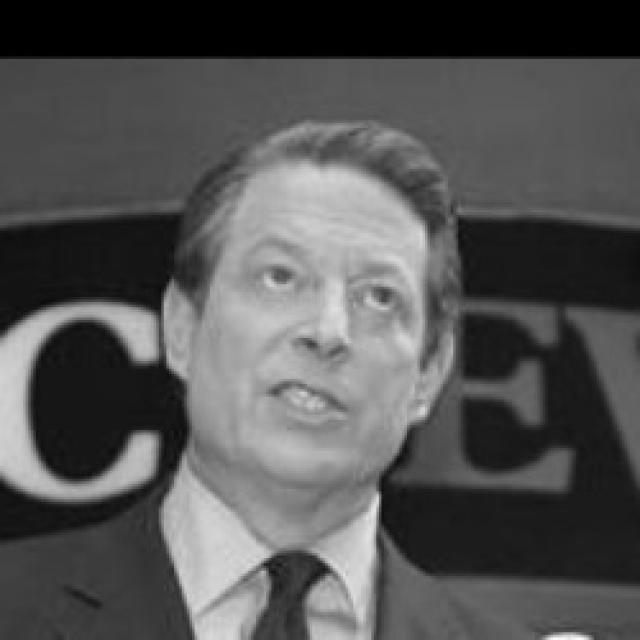real: (190, 164, 425, 482), (235, 244, 402, 321)
